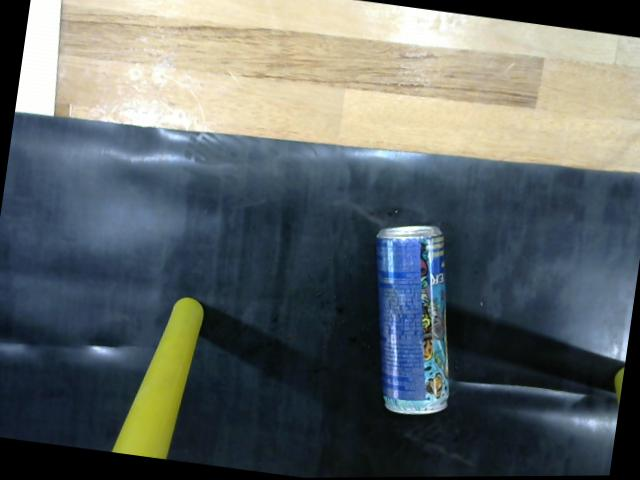can: (372, 224, 452, 416)
